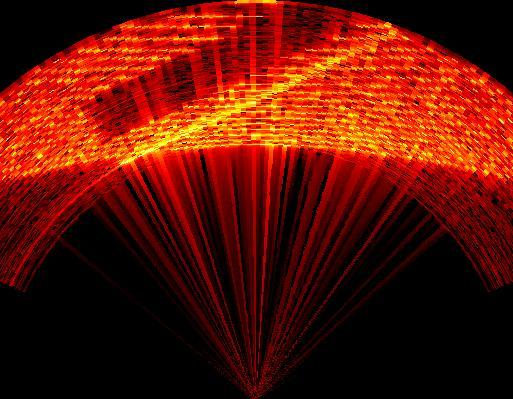pipe: (80, 3, 394, 169)
